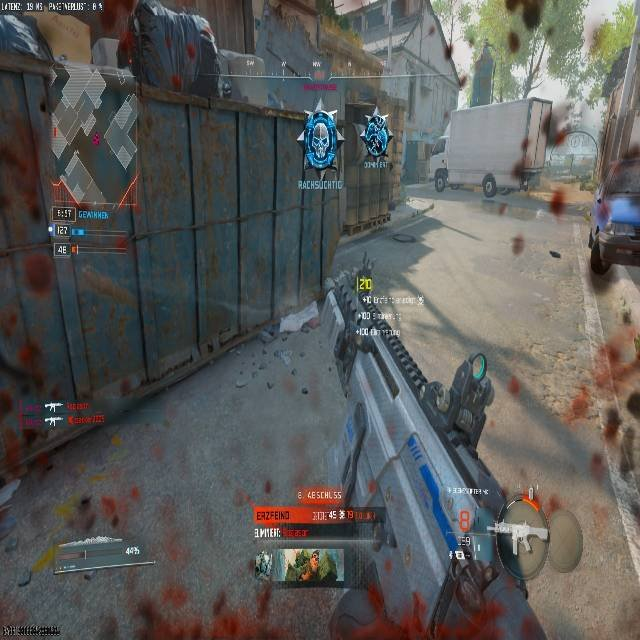player: (299, 102, 343, 177), (361, 112, 389, 165), (432, 159, 449, 194)
